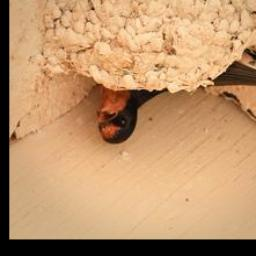Swallow: (95, 39, 256, 148)
